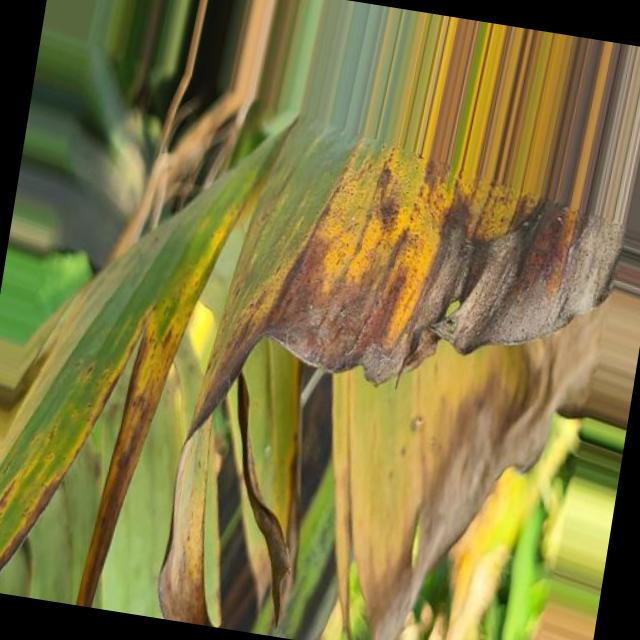Banana_Black_Sigatoka: (14, 123, 598, 640)
